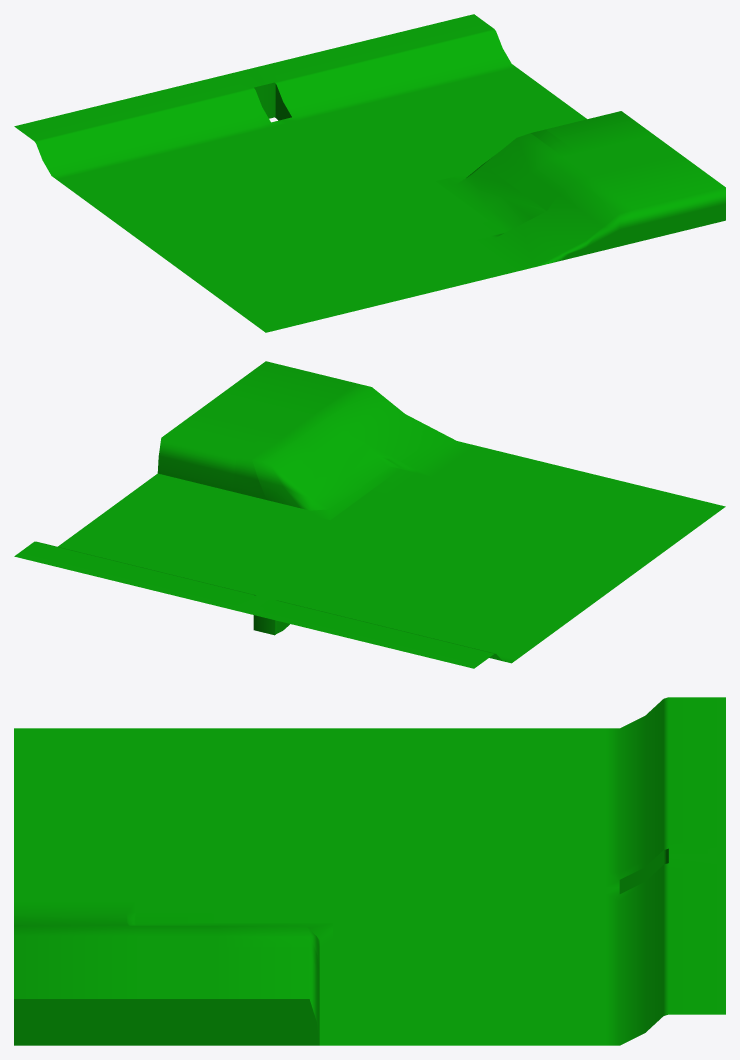
Rendered from SubidaNew.fbx.
The picture shows the model from 3 angles, top to bottom: view 1: azimuth 30°, elevation 25°; view 2: azimuth 150°, elevation 25°; view 3: azimuth 270°, elevation 25°; orthographic projection. The views are drawn at different scales.
Visible parts, largest first — view 1: polySurface12; view 2: polySurface12; view 3: polySurface12.
Boxes of the visible parts, x1,y1,x2,y2 form: polySurface12: [14, 14, 725, 332]; polySurface12: [14, 361, 725, 668]; polySurface12: [14, 697, 725, 1045].
Size of the model in its own units: 12238 by 1205 by 11603.
